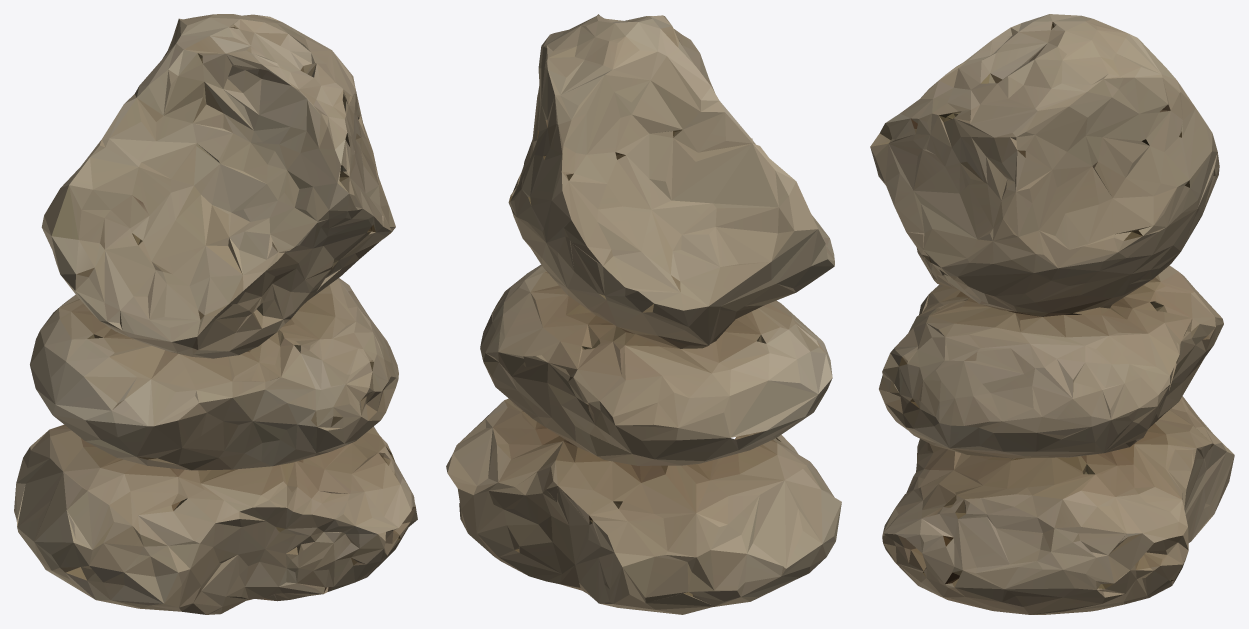
The model's file is travertine-lo.glb.
3 renders of one model, left to right at view 1: azimuth 30°, elevation 25°; view 2: azimuth 150°, elevation 25°; view 3: azimuth 270°, elevation 25°, orthographic.
Visible parts, largest first — view 1: geometry_0; view 2: geometry_0; view 3: geometry_0.
Part boxes in pixels (x1=…): geometry_0: x1=14, y1=14, x2=417, y2=614; geometry_0: x1=446, y1=14, x2=841, y2=614; geometry_0: x1=870, y1=14, x2=1234, y2=614.
Bounding box in the file's own units: 0.6589 × 0.9803 × 0.5899.
1 material, 1 textured.
